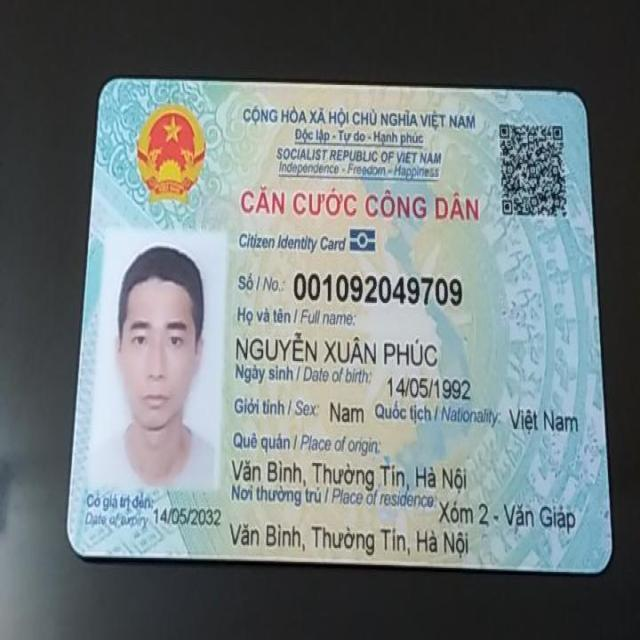bottom_left: (52, 502, 112, 566)
bottom_right: (580, 532, 626, 590)
image_person: (93, 230, 224, 490)
top_left: (84, 65, 132, 114)
top_right: (546, 74, 598, 128)
